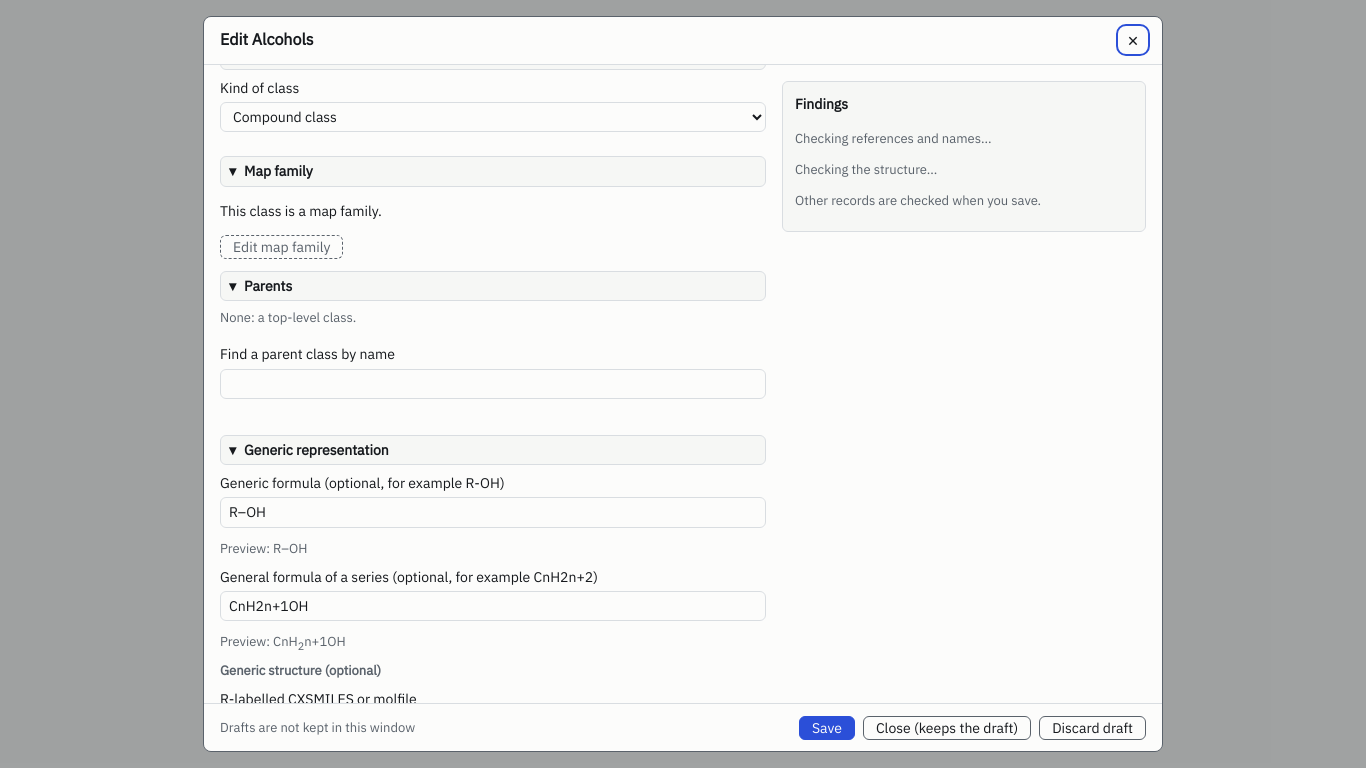
Test: Parents (cycle-safe, HIER-001) › refuses a descendant with the reason and no button; the class itself too; nothing is added
(page scrolled)
Type "alcohols" into the search field labelled "Find a parent class by name" at (493,384), box [220,368,766,399]
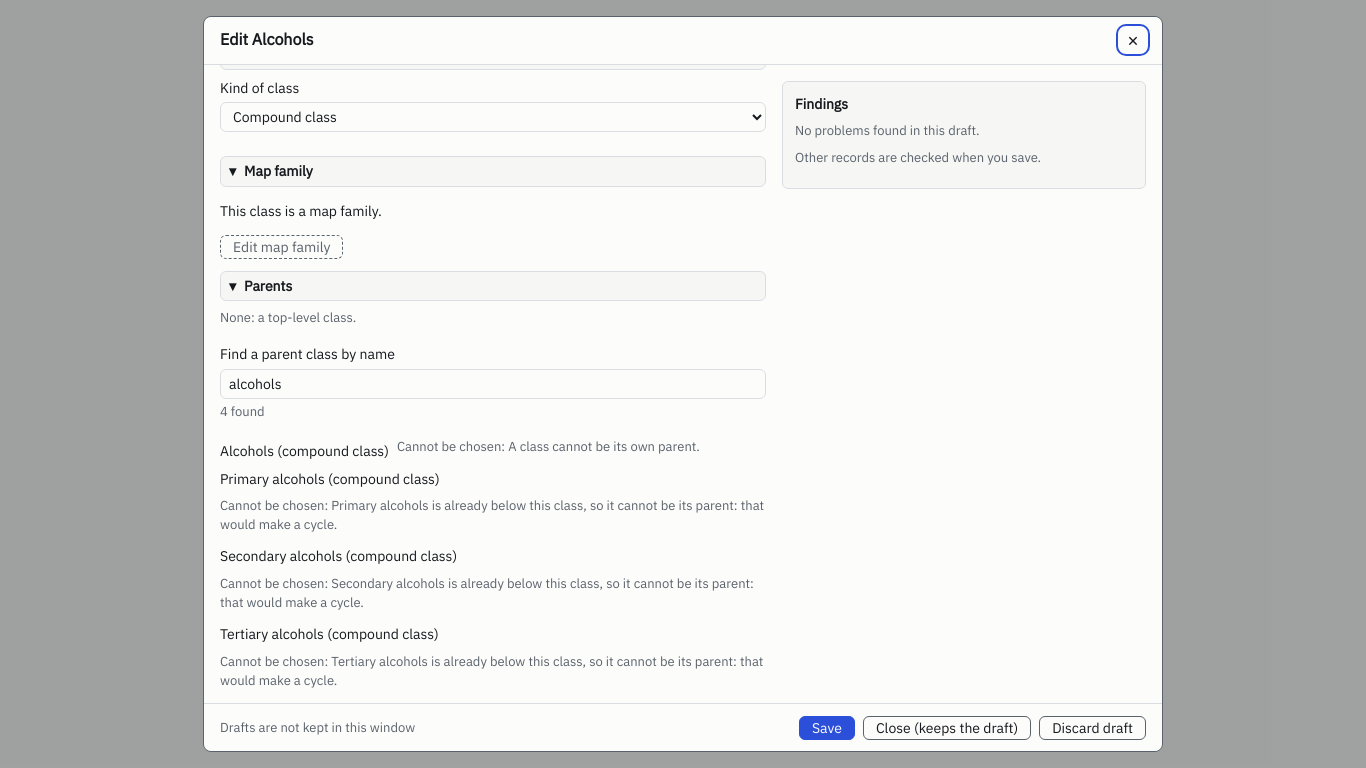
Now the text "Primary alcohols is already below this class, so it cannot be its parent: that would make a cycle" is shown, box [220,497,764,533]
Now the text "Cannot be chosen: A class cannot be its own parent." is shown, box [397,438,700,456]
